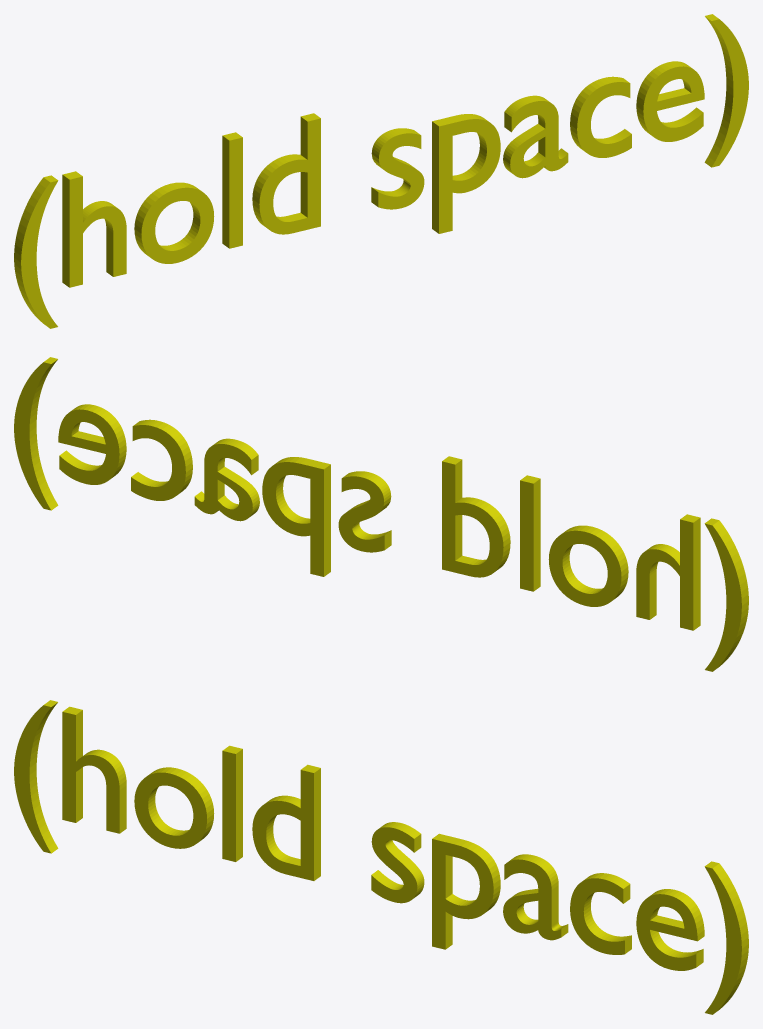
Rendered from holdspace.fbx.
3 views of the same model, one above another, from view 1: azimuth 30°, elevation 25°; view 2: azimuth 150°, elevation 25°; view 3: azimuth 330°, elevation 25° (orthographic).
Visible parts, largest first — view 1: Text; view 2: Text; view 3: Text.
Part boxes in pixels (x1,y1,x2,y2): Text: (14, 14, 748, 328); Text: (14, 357, 748, 671); Text: (14, 700, 748, 1014).
Size of the model in its own units: 481 by 92.4 by 8.08.
